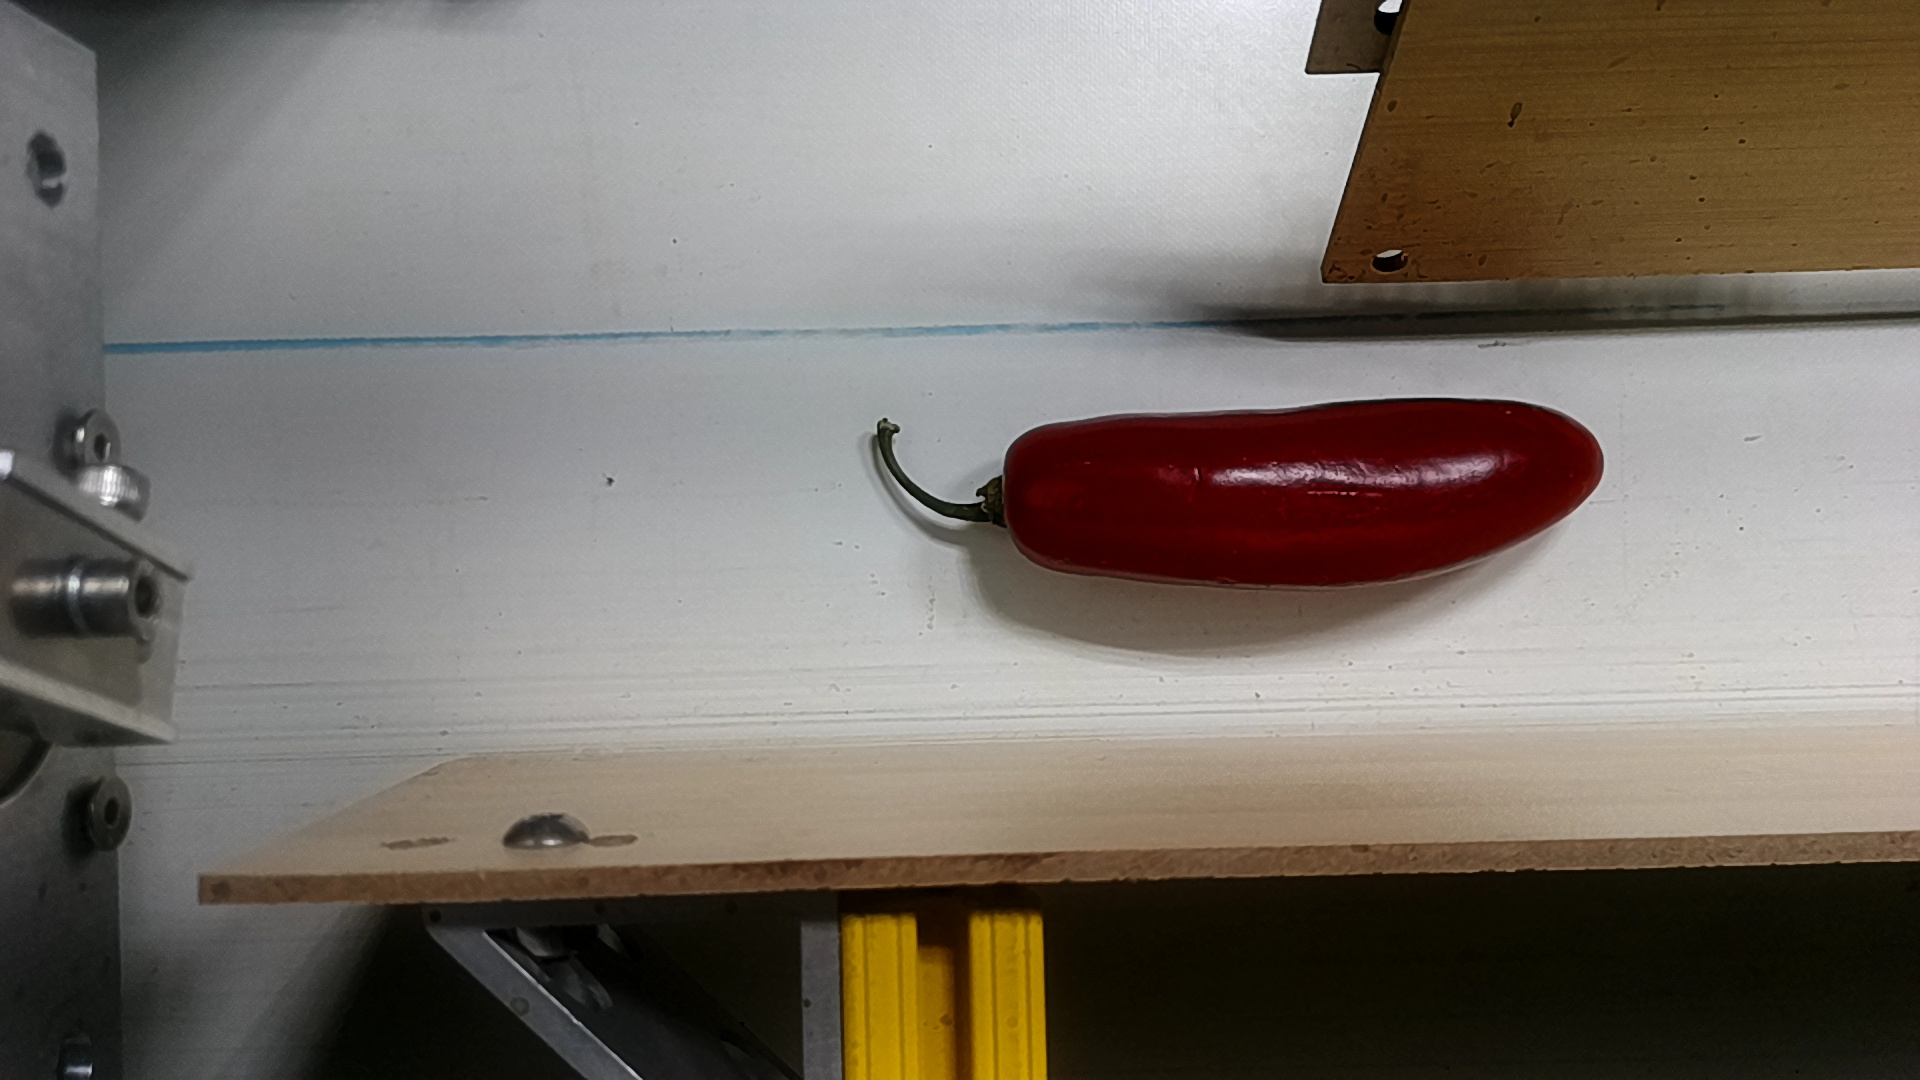Cut Point: (971, 415, 1065, 575)
